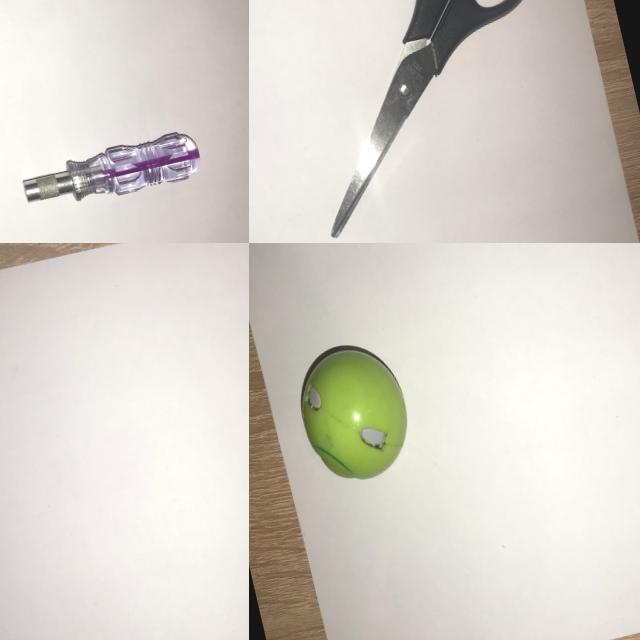scissors: (249, 0, 596, 243)
screwdriver: (5, 116, 216, 228)
toy: (280, 328, 426, 498)
